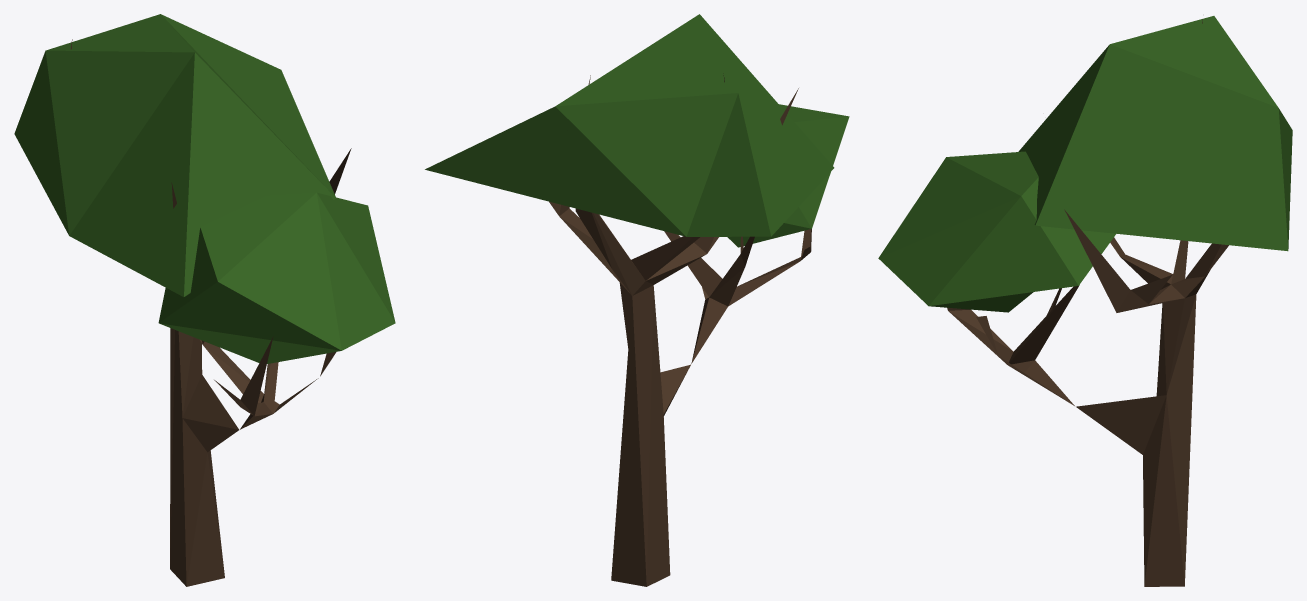
The model's file is tree_a_lod1.glb.
3 views of the same model, side by side, from view 1: azimuth 30°, elevation 25°; view 2: azimuth 150°, elevation 25°; view 3: azimuth 270°, elevation 25° (orthographic). The views are drawn at different scales.
Parts seen in each view (by area): view 1: tree_a_lod1; view 2: tree_a_lod1; view 3: tree_a_lod1.
Part boxes in pixels (x1=…): tree_a_lod1: x1=14, y1=14, x2=395, y2=586; tree_a_lod1: x1=425, y1=14, x2=849, y2=586; tree_a_lod1: x1=878, y1=16, x2=1292, y2=586.
Size of the model in its own units: 1.59 by 3 by 2.16.
